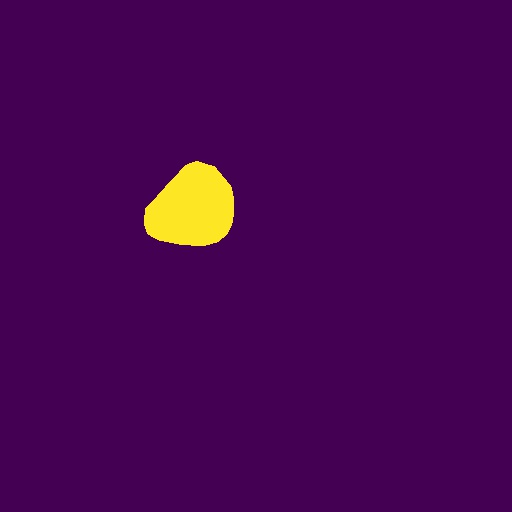Gliomia_tumour: (144, 161, 234, 246)
